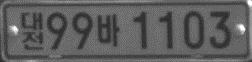0: (182, 10, 204, 49)
1: (130, 11, 153, 49), (157, 11, 180, 49)
3: (209, 10, 232, 49)
9: (71, 11, 94, 50), (46, 10, 68, 49)
대전_V: (20, 11, 45, 50)
바: (96, 13, 120, 47)
